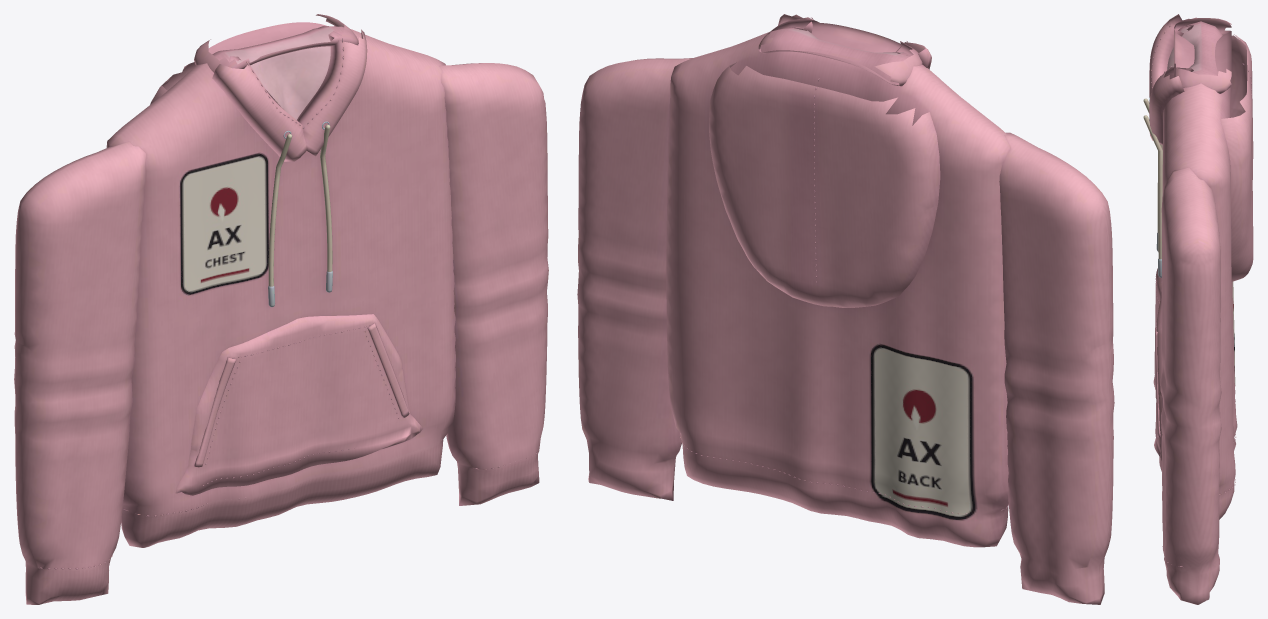
Rendered from diagnostic.glb.
The picture shows the model from 3 angles, left to right: view 1: azimuth 30°, elevation 25°; view 2: azimuth 150°, elevation 25°; view 3: azimuth 270°, elevation 25°; orthographic projection. The views are drawn at different scales.
Parts seen in each view (by area): view 1: hoodie_body; view 2: hoodie_body; view 3: hoodie_body.
Part boxes in pixels (x1,y1,x2,y2): hoodie_body: (14,14,548,604); hoodie_body: (577,14,1114,604); hoodie_body: (1143,14,1253,604).
Size of the model in its own units: 0.8278 by 0.7602 by 0.167.
1 material, 1 textured.
